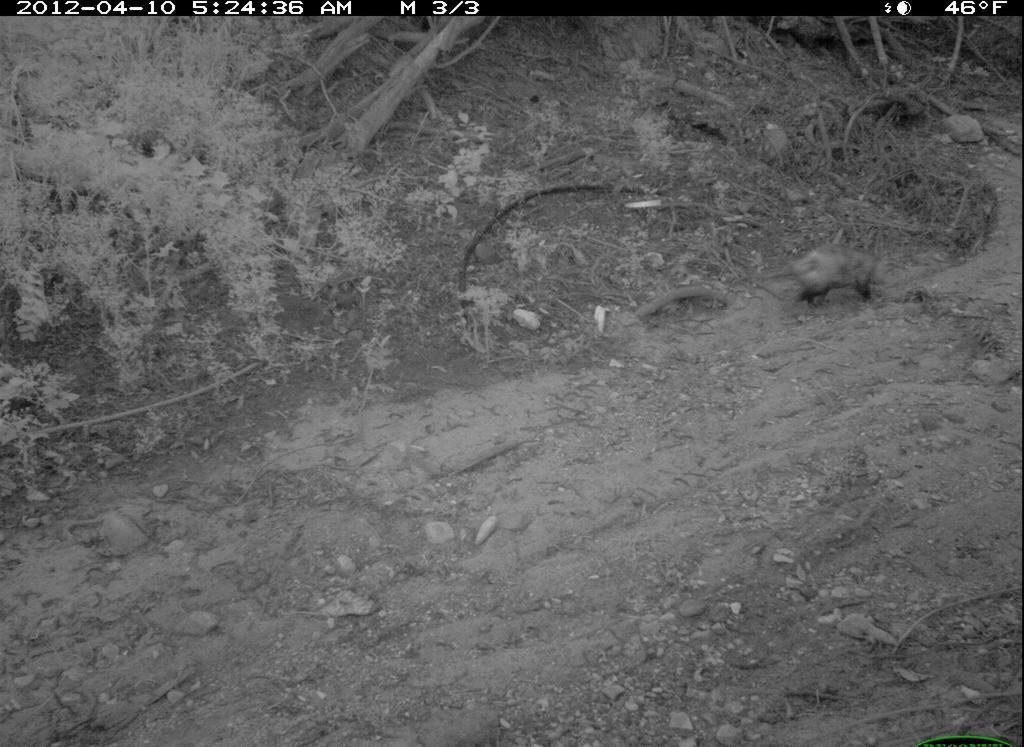opossum: (754, 249, 898, 315)
